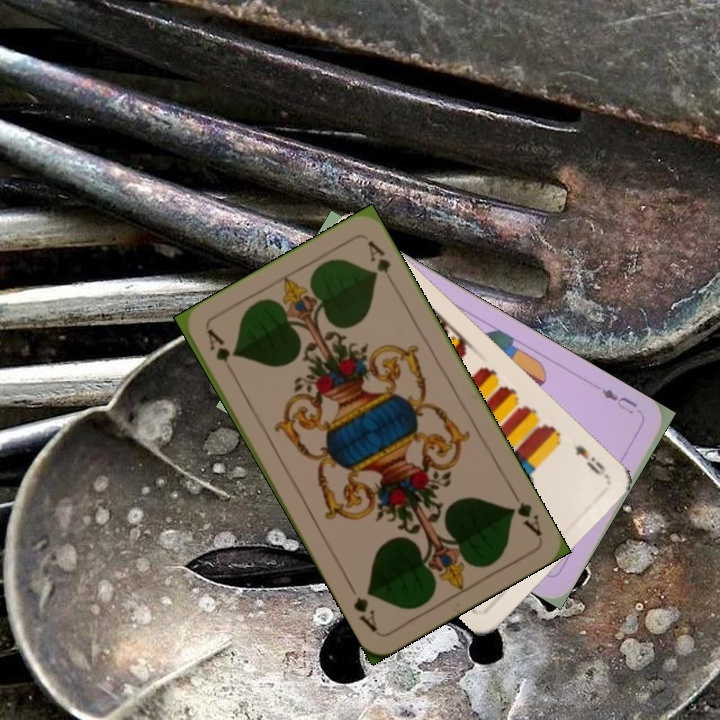E9: (570, 441, 609, 479)
EU: (597, 384, 640, 417)
GA: (505, 486, 545, 540), (203, 325, 239, 380)
